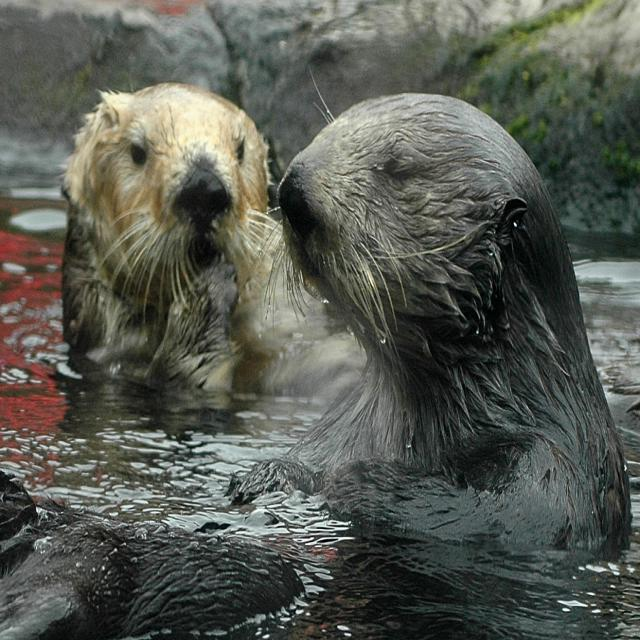otter: (234, 95, 633, 551), (62, 85, 364, 405)
